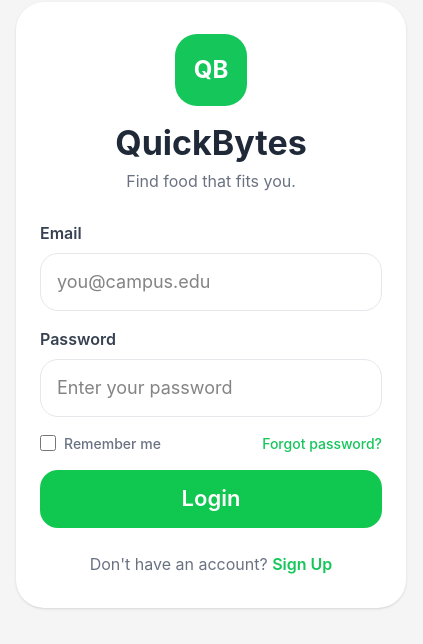
Test case: Login › shows a network error without storing credentials
Type "student@unt.edu" into the field labelled "Email".
click(211, 282); type("student@unt.edu")  # box [40,253,382,311]
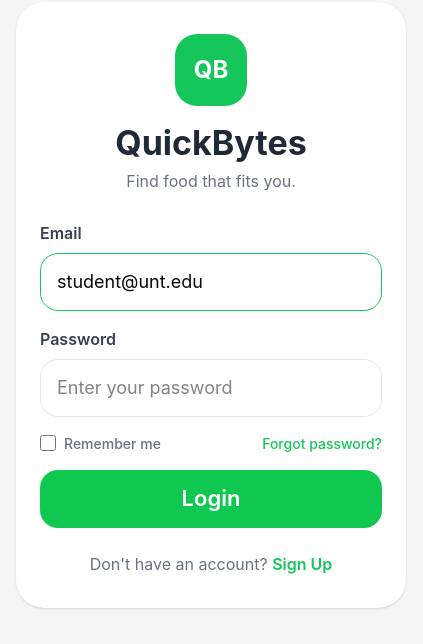
Type "Password123" into the password field labelled "Password".
click(211, 388); type("Password123")  # box [40,359,382,417]
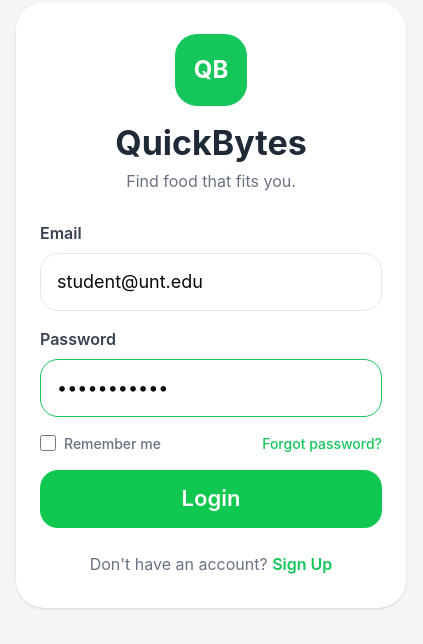
Click the button "Login".
click(211, 499)  # box [40,470,382,528]
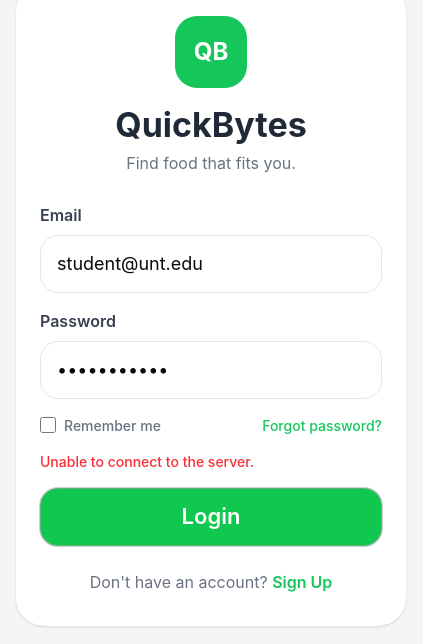
Expected: the text "Unable to connect to the server." is shown, [40,453,254,470]
